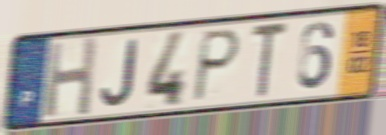4: (144, 28, 189, 110)
6: (296, 20, 336, 94)
H: (42, 34, 99, 121)
J: (99, 37, 140, 109)
P: (189, 27, 244, 106)
T: (249, 20, 290, 102)
